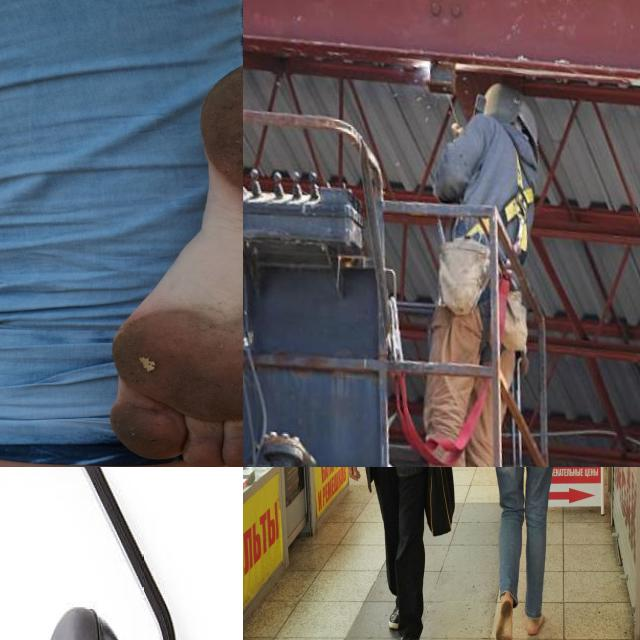Barefoots: (109, 56, 243, 467), (495, 596, 512, 640), (528, 614, 544, 635)
Ear-protection: (0, 467, 206, 640)
Harness: (501, 149, 536, 254)
